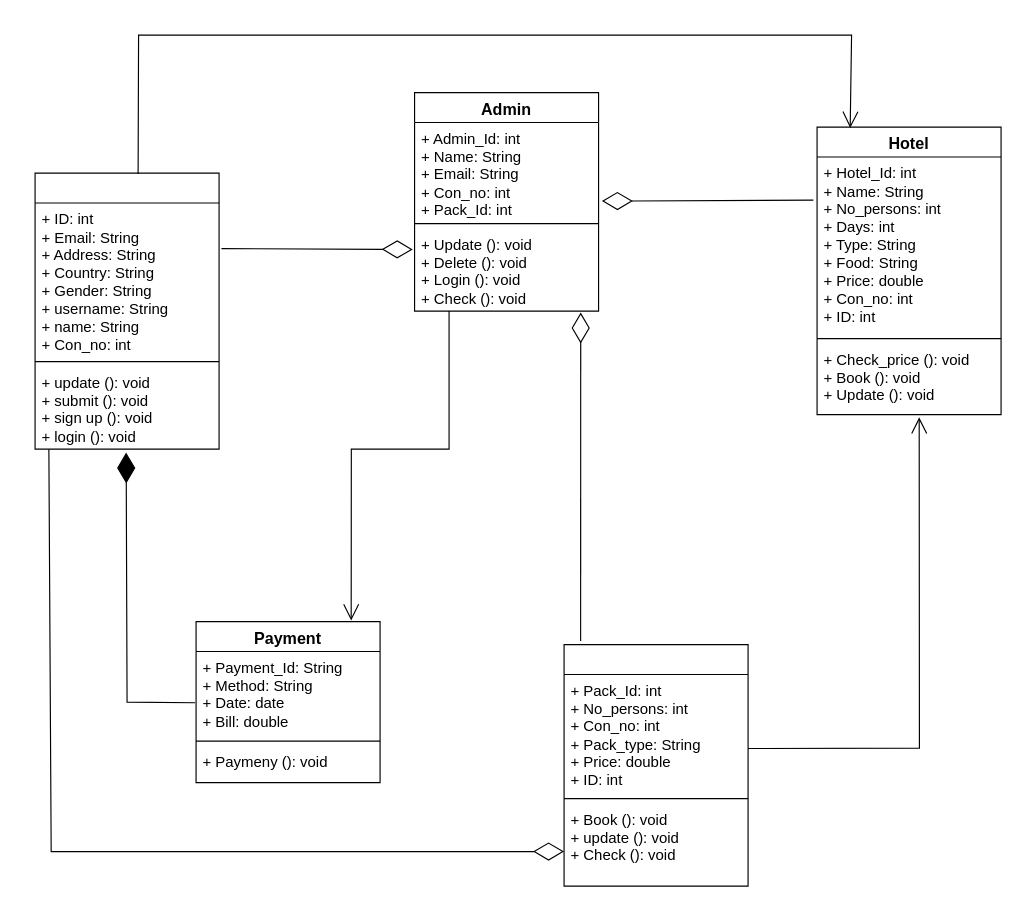
Some shapes in this 1021 by 910 pixel diagram are drawn without their labels. The shapes that lost their labels are listed below. From the top down, each one's box as (x1, y1, x2, y2) in pixels, then its label:
(34, 172, 219, 449): Customer
(563, 643, 748, 886): Package
